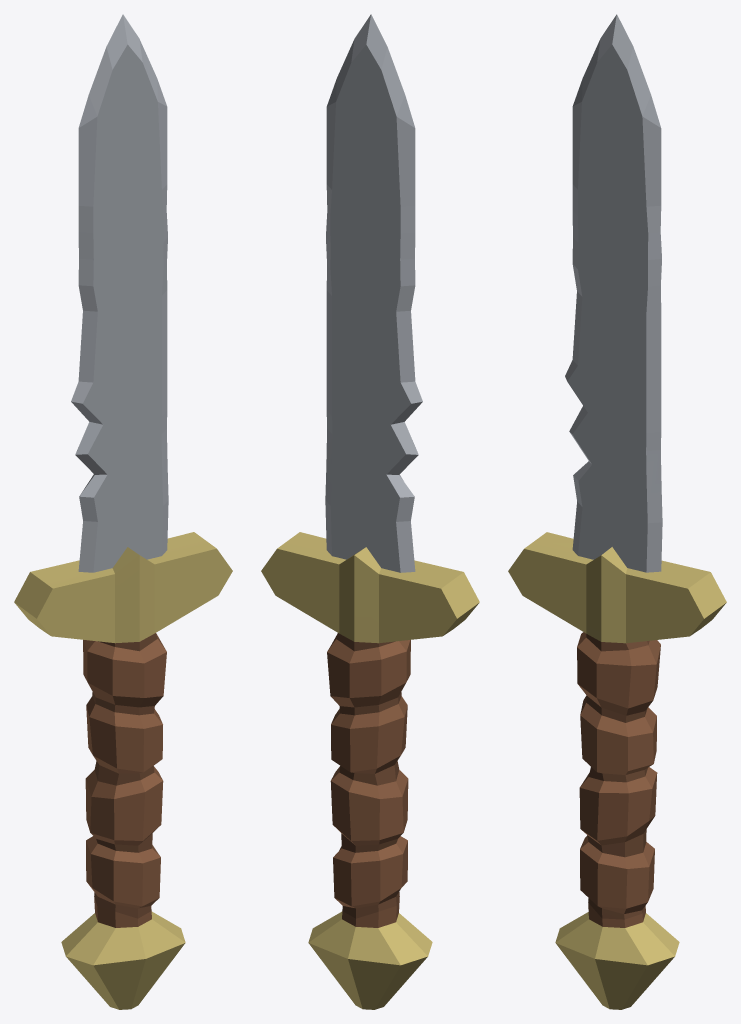
The model's file is knife_1100.glb.
The picture shows the model from 3 angles, left to right: view 1: azimuth 30°, elevation 25°; view 2: azimuth 150°, elevation 25°; view 3: azimuth 330°, elevation 25°; orthographic projection.
Visible parts, largest first — view 1: Knife_1100; view 2: Knife_1100; view 3: Knife_1100.
Part boxes in pixels (bbox=[...]): Knife_1100: bbox=[14, 14, 232, 1009]; Knife_1100: bbox=[261, 14, 479, 1009]; Knife_1100: bbox=[508, 14, 726, 1009].
Size of the model in its own units: 0.644 by 3.11 by 0.2564.
